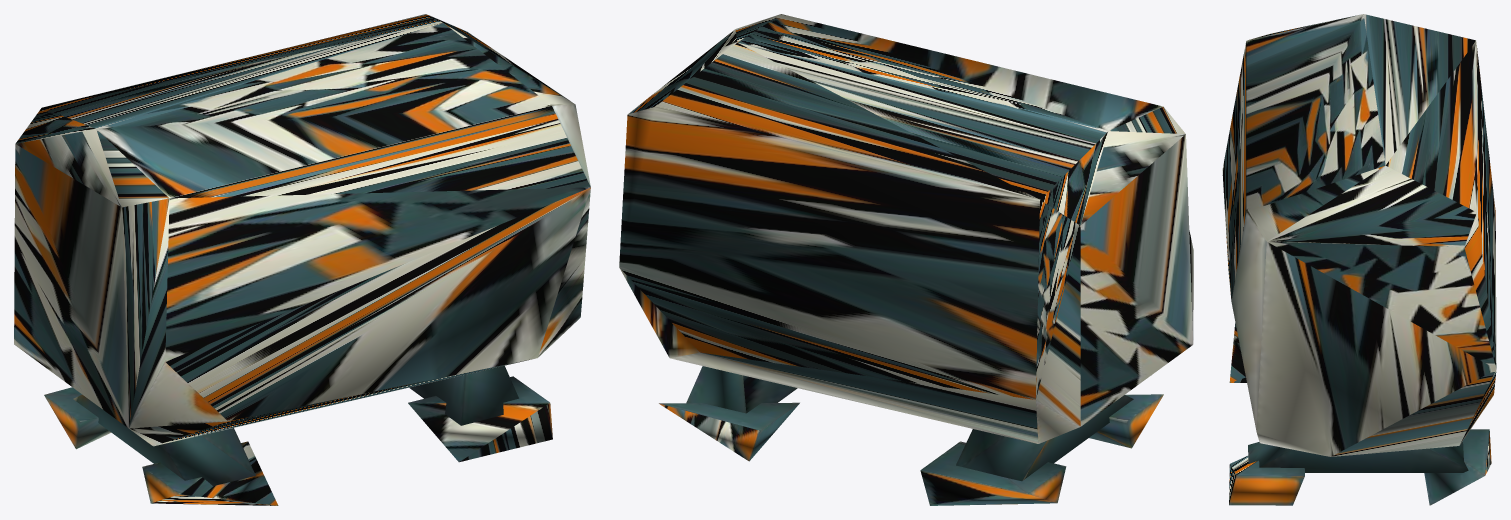
The model's file is cargo_pod-lod1.68e56e8f801e.glb.
3 renders of one model, left to right at view 1: azimuth 30°, elevation 25°; view 2: azimuth 150°, elevation 25°; view 3: azimuth 270°, elevation 25°, orthographic. The views are drawn at different scales.
Visible parts, largest first — view 1: geometry_0; view 2: geometry_0; view 3: geometry_0.
Part boxes in pixels (x1,y1,x2,y2): geometry_0: [14, 14, 590, 505]; geometry_0: [619, 14, 1193, 505]; geometry_0: [1222, 14, 1496, 505].
Size of the model in its own units: 0.998 by 0.7574 by 0.5709.
1 material, 1 textured.
